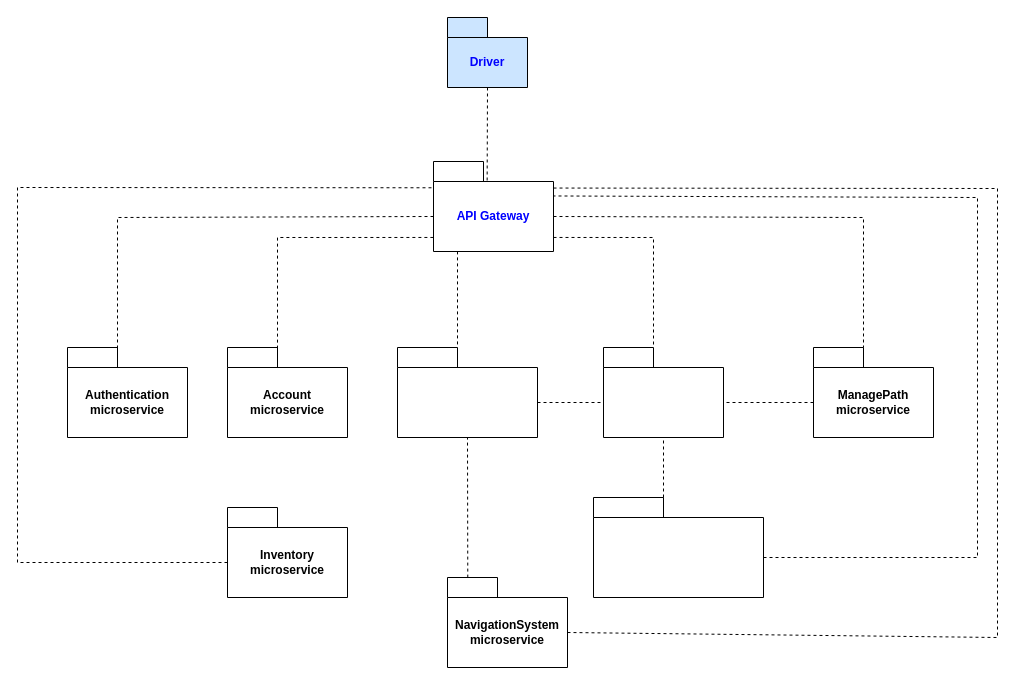
This 1016x685 diagram has some shape labels left out. The shapes that lost their labels are listed below. From the top down, each one's centre as x and y in pixels, then its label:
At point 467,392: "ManageSensorsData microservice".
At point 663,392: "ManageRoute microservice".
At point 678,547: "RecommendationSystem microservice".
